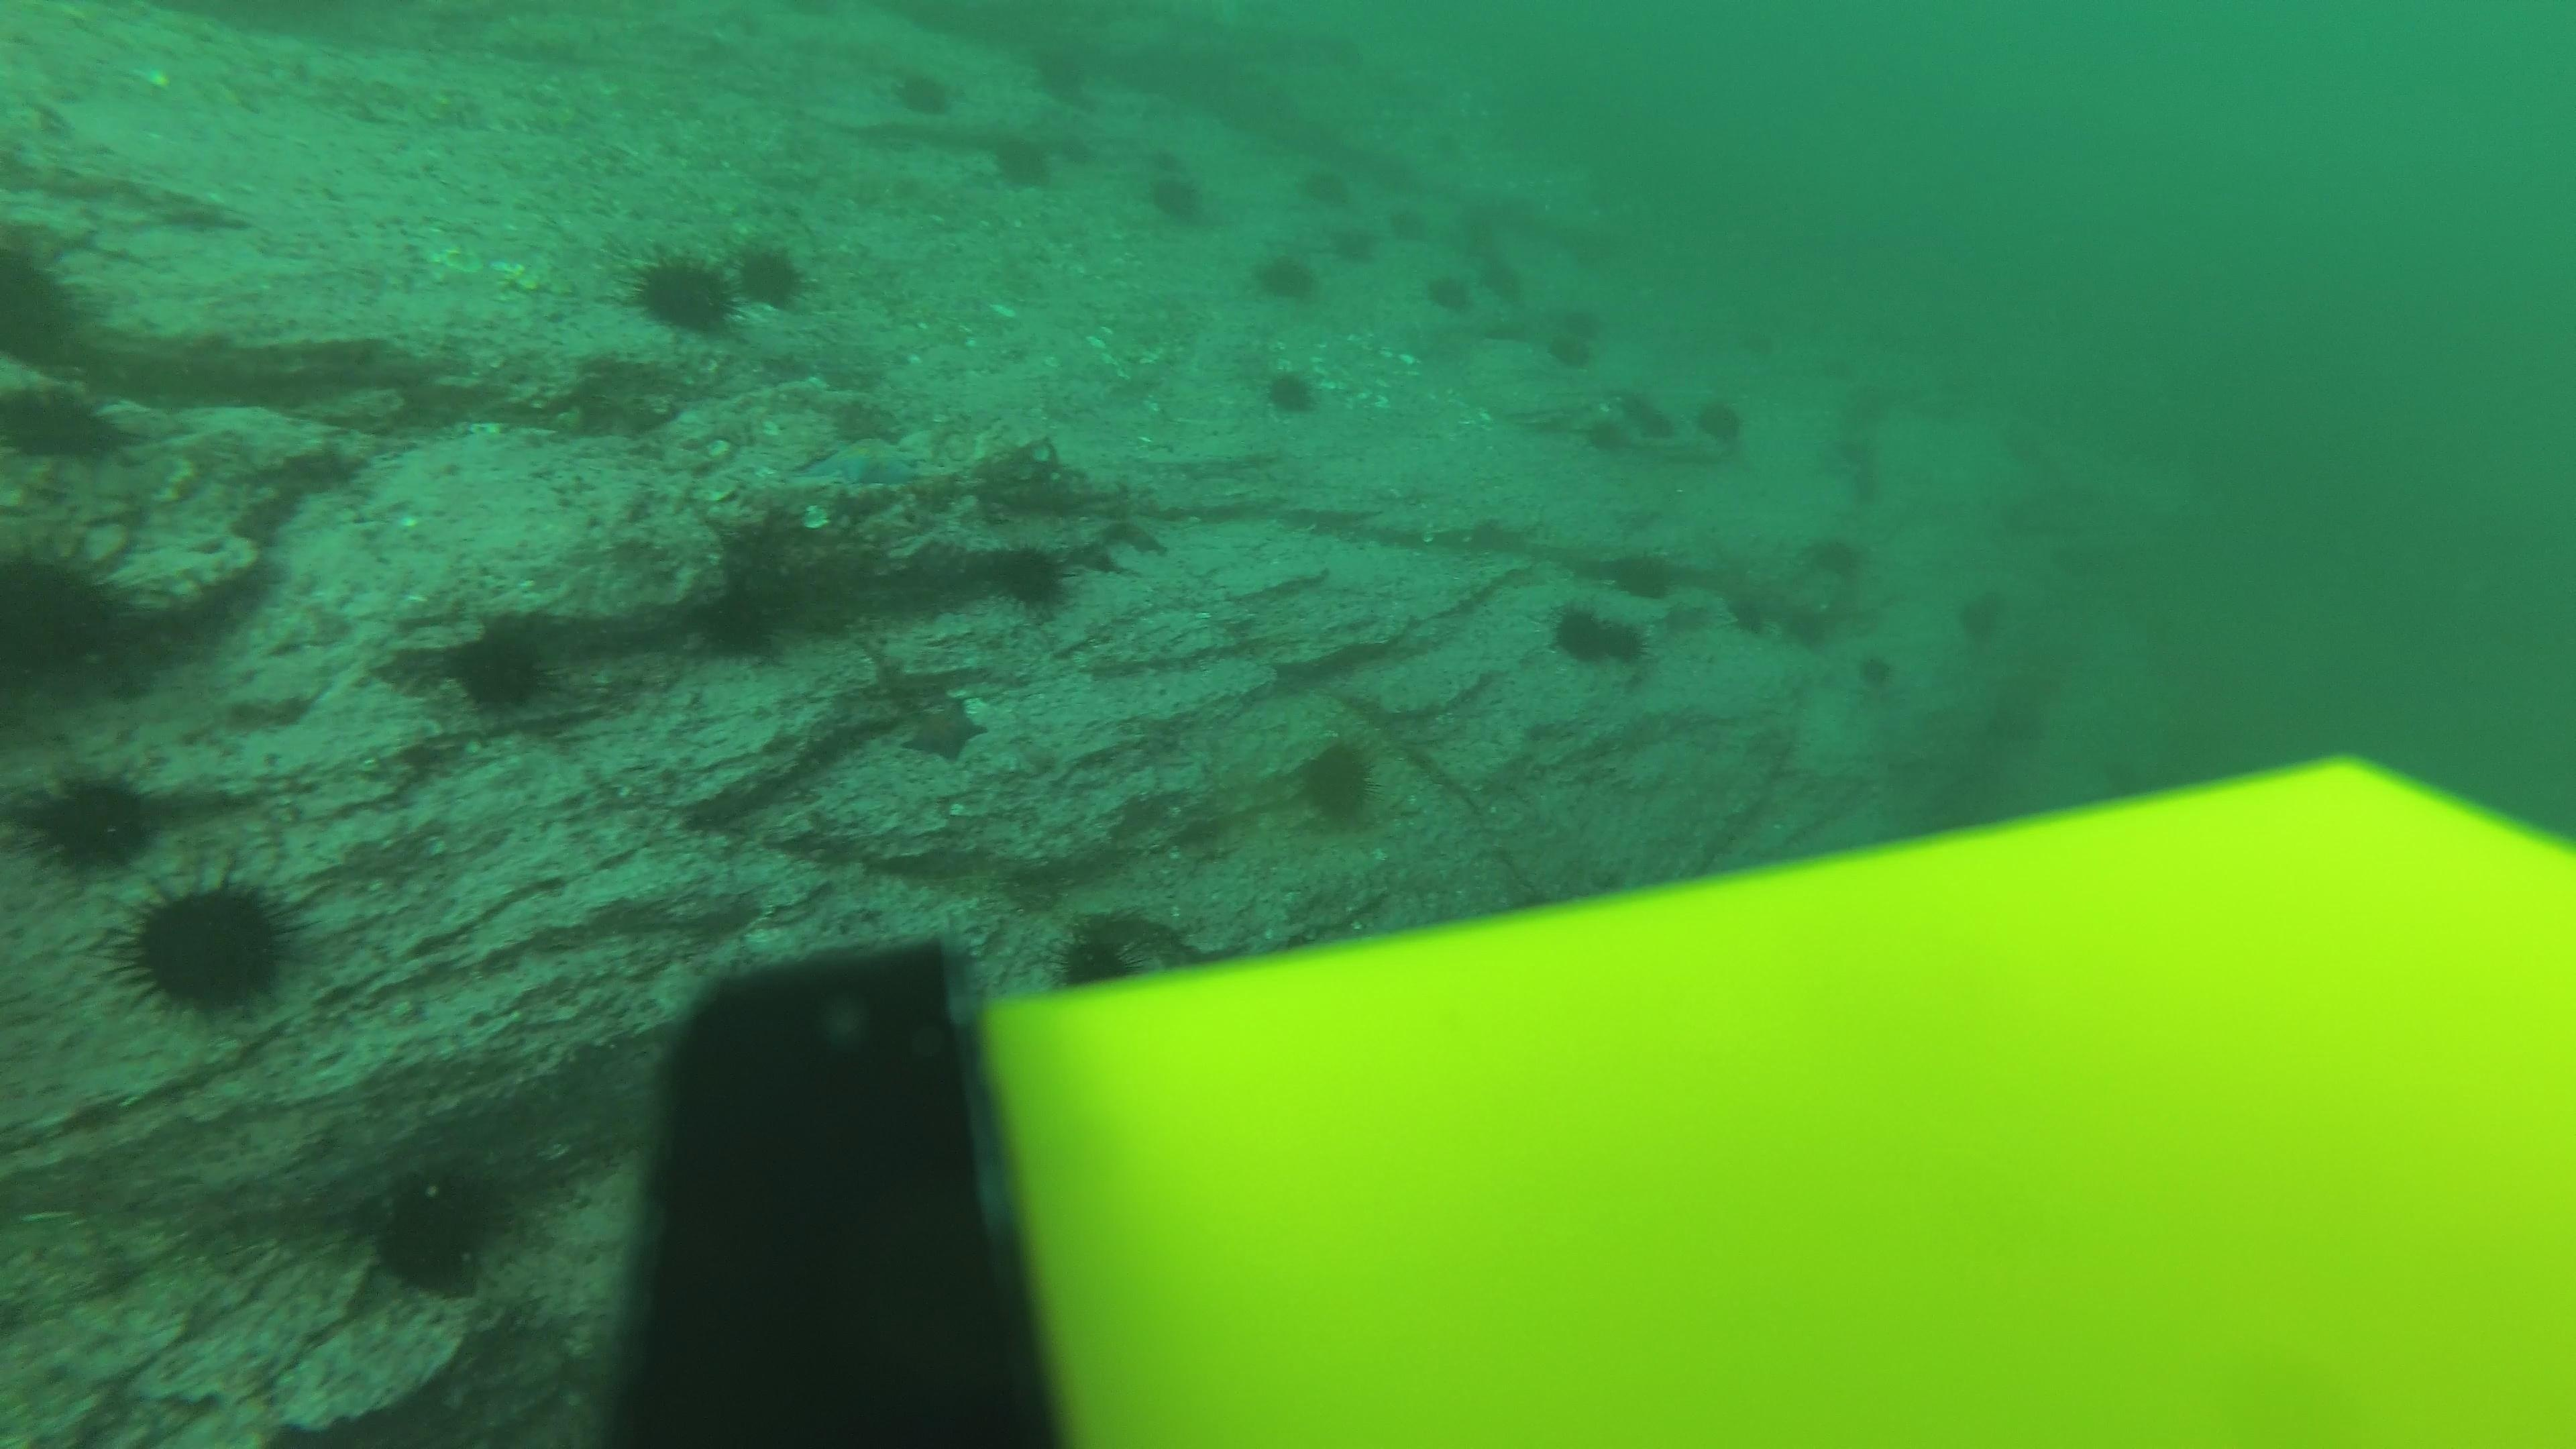echinus: (111, 867, 306, 1023), (2, 536, 142, 706), (357, 1154, 513, 1297), (16, 763, 165, 878), (0, 225, 97, 377), (435, 614, 564, 722), (2, 364, 131, 469), (1047, 902, 1192, 994), (616, 244, 747, 331), (1286, 731, 1391, 835), (688, 573, 791, 663), (724, 234, 814, 318), (991, 540, 1079, 616), (985, 127, 1062, 195), (1543, 594, 1612, 665), (1598, 614, 1665, 683), (1249, 244, 1322, 308), (1603, 545, 1679, 602), (886, 64, 959, 122), (1258, 361, 1323, 421), (1145, 172, 1212, 230), (1297, 163, 1364, 221), (1313, 32, 1369, 74), (1384, 205, 1438, 248), (1428, 274, 1483, 317), (1477, 260, 1532, 303), (1040, 71, 1095, 113), (1419, 113, 1474, 156), (1063, 131, 1118, 172), (1143, 140, 1198, 180), (1024, 42, 1079, 83), (1327, 230, 1378, 269), (1557, 303, 1606, 341), (1817, 538, 1867, 577), (1780, 605, 1829, 644), (1543, 336, 1594, 373), (1629, 410, 1679, 448), (1697, 402, 1746, 439), (1737, 326, 1787, 363), (1817, 347, 1867, 384), (1729, 598, 1778, 635), (1847, 649, 1897, 686), (1951, 607, 2001, 644), (1969, 586, 2019, 621), (1582, 418, 1629, 453), (1617, 389, 1652, 421)
starfish: (784, 430, 931, 497), (892, 694, 985, 766), (1097, 511, 1171, 563)
